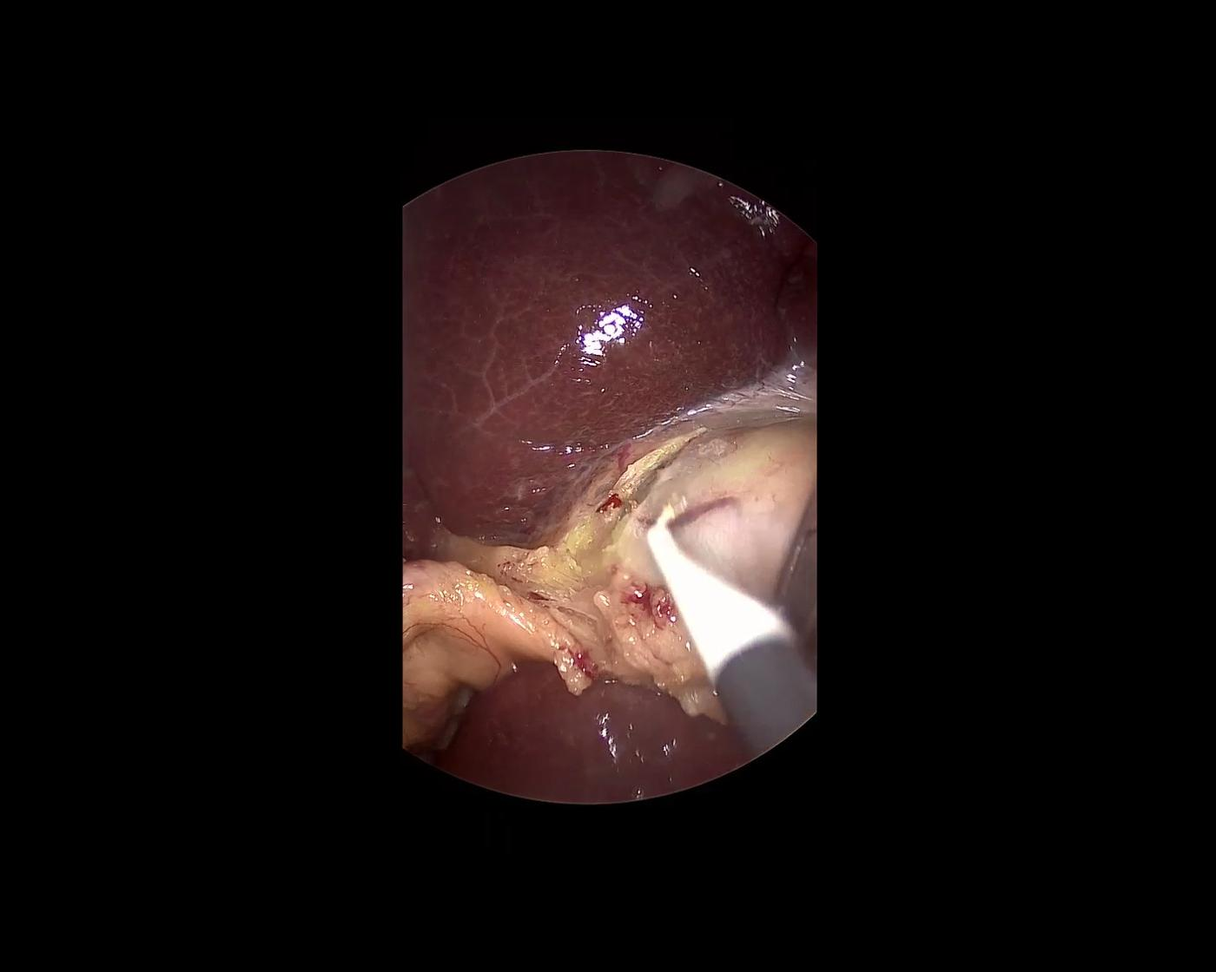Forceps: (628, 483, 833, 759)
Gallbladder: (544, 409, 817, 728)
Liver: (401, 154, 814, 562), (436, 651, 748, 836)
